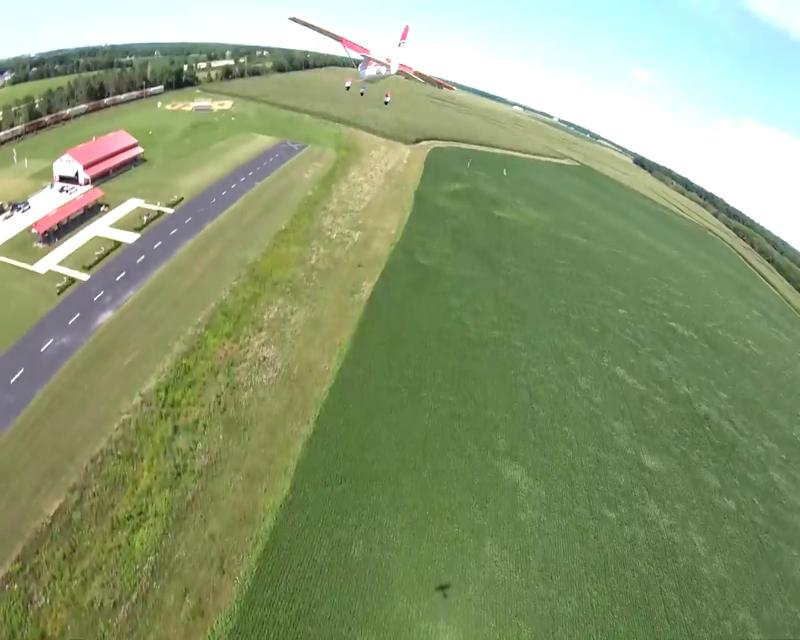UAV: (288, 17, 457, 105)
